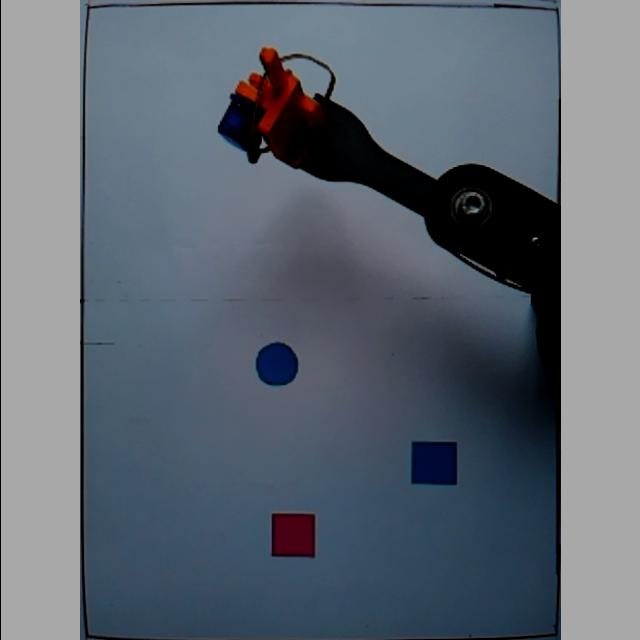blueCircle: (254, 342, 302, 386)
blueSquare: (408, 438, 460, 488)
pinkSquare: (270, 510, 320, 560)
